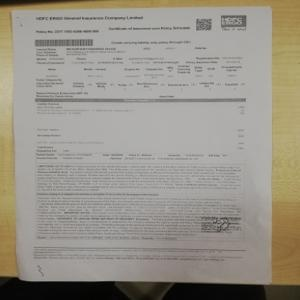image: (218, 13, 248, 28)
table: (36, 97, 249, 164), (35, 43, 249, 98)
text: (38, 196, 247, 239), (34, 162, 245, 193), (33, 11, 145, 23)
